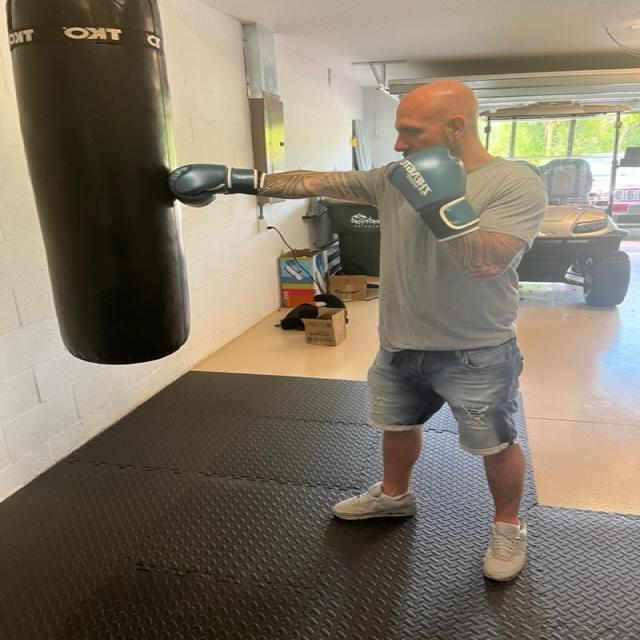bag: (43, 1, 176, 372)
jab: (148, 76, 554, 264)
